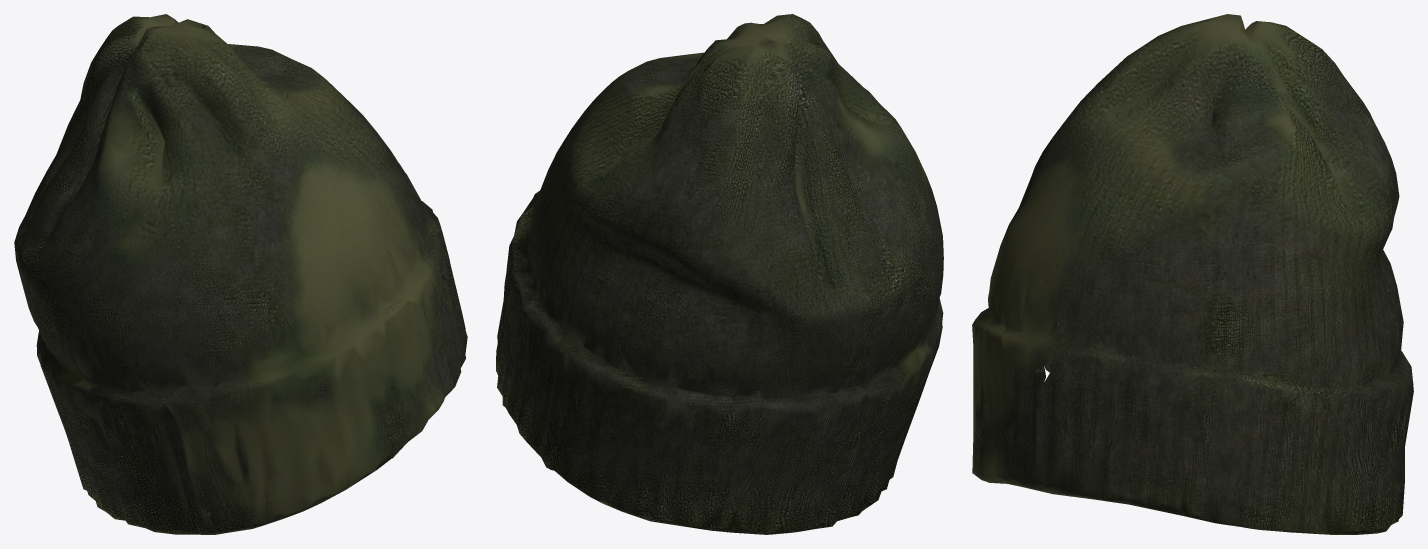
File: beanie.glb
3 renders of one model, left to right at view 1: azimuth 30°, elevation 25°; view 2: azimuth 150°, elevation 25°; view 3: azimuth 270°, elevation 25°, orthographic. The views are drawn at different scales.
Visible parts, largest first — view 1: beanie; view 2: beanie; view 3: beanie.
Part boxes in pixels (left/top/right/bottom): beanie: left=14, top=14, right=467, bottom=534; beanie: left=496, top=14, right=943, bottom=534; beanie: left=972, top=14, right=1413, bottom=534.
Bounding box in the file's own units: 0.2132 × 0.24 × 0.1944.
1 material, 1 textured.
